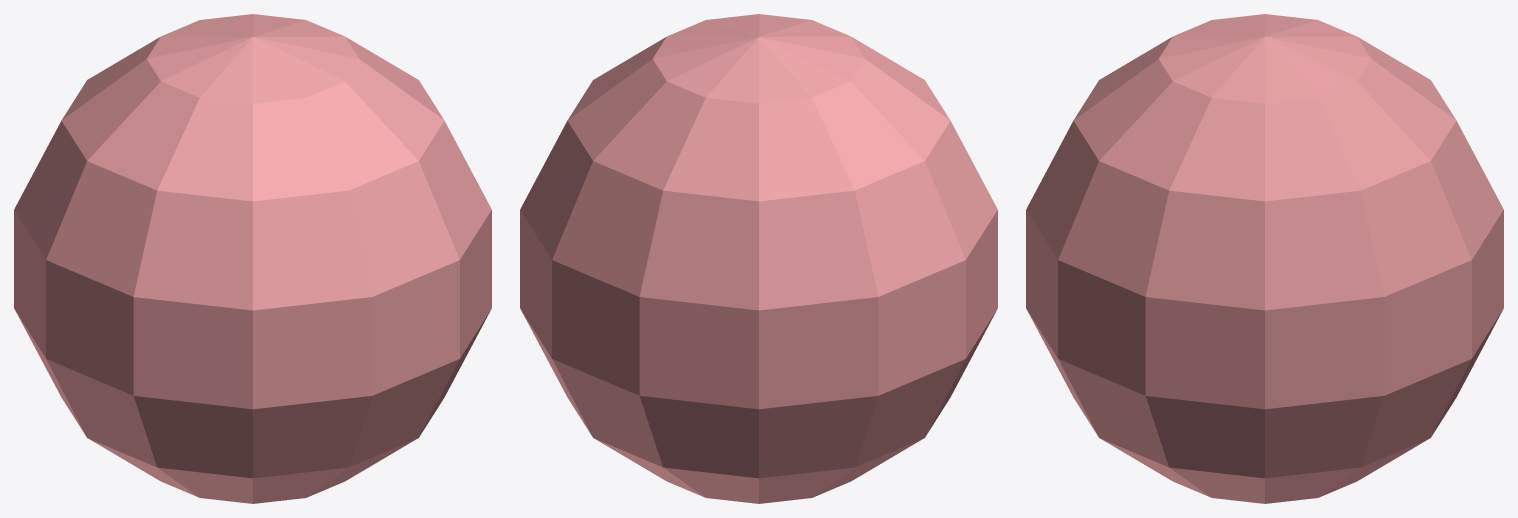
The model's file is simbolo_0_esfera.glb.
3 views of the same model, side by side, from view 1: azimuth 30°, elevation 25°; view 2: azimuth 150°, elevation 25°; view 3: azimuth 270°, elevation 25° (orthographic).
Parts seen in each view (by area): view 1: simbolo_0_esfera; view 2: simbolo_0_esfera; view 3: simbolo_0_esfera.
Boxes of the visible parts, left/top/right/bottom form: simbolo_0_esfera: left=14, top=14, right=491, bottom=503; simbolo_0_esfera: left=520, top=14, right=997, bottom=503; simbolo_0_esfera: left=1026, top=14, right=1503, bottom=503.
Bounding box in the file's own units: 0.6824 × 0.7 × 0.6824.
